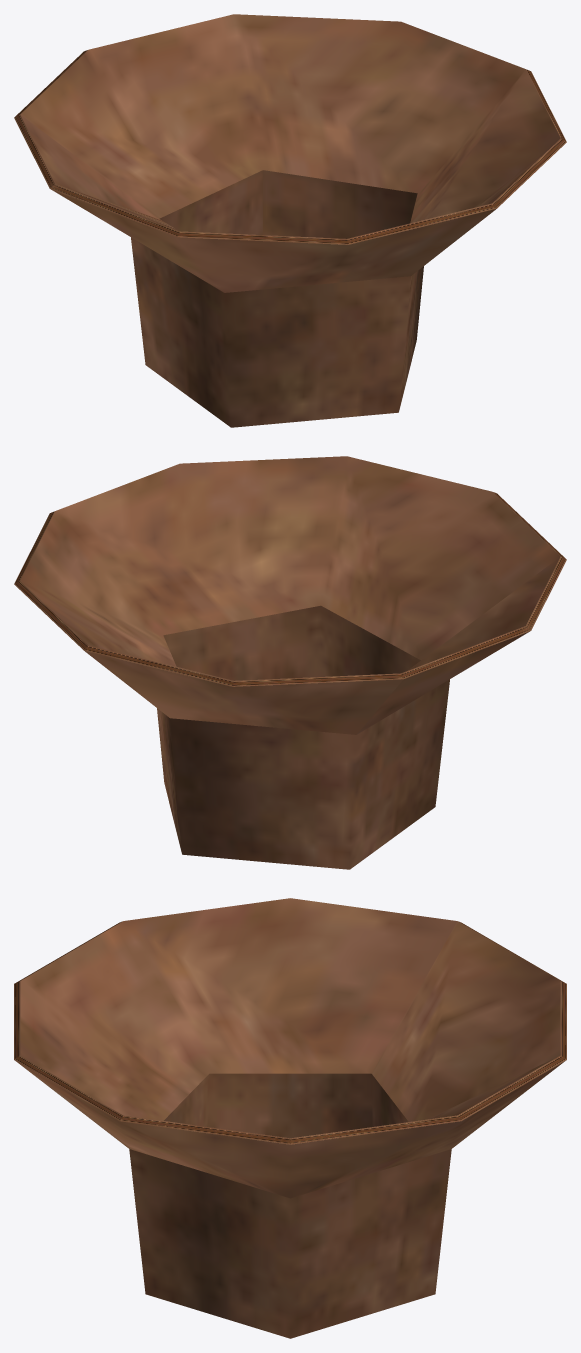
The model's file is thm_tato_debris_s10_l3.fbx.
The picture shows the model from 3 angles, top to bottom: view 1: azimuth 30°, elevation 25°; view 2: azimuth 150°, elevation 25°; view 3: azimuth 270°, elevation 25°; orthographic projection. The views are drawn at different scales.
Parts seen in each view (by area): view 1: mesh_node; view 2: mesh_node; view 3: mesh_node.
Part boxes in pixels (x1,y1,x2,y2): mesh_node: (14, 14, 566, 427); mesh_node: (14, 456, 566, 869); mesh_node: (14, 898, 566, 1338).
Size of the model in its own units: 6.53 by 3.17 by 6.21.
